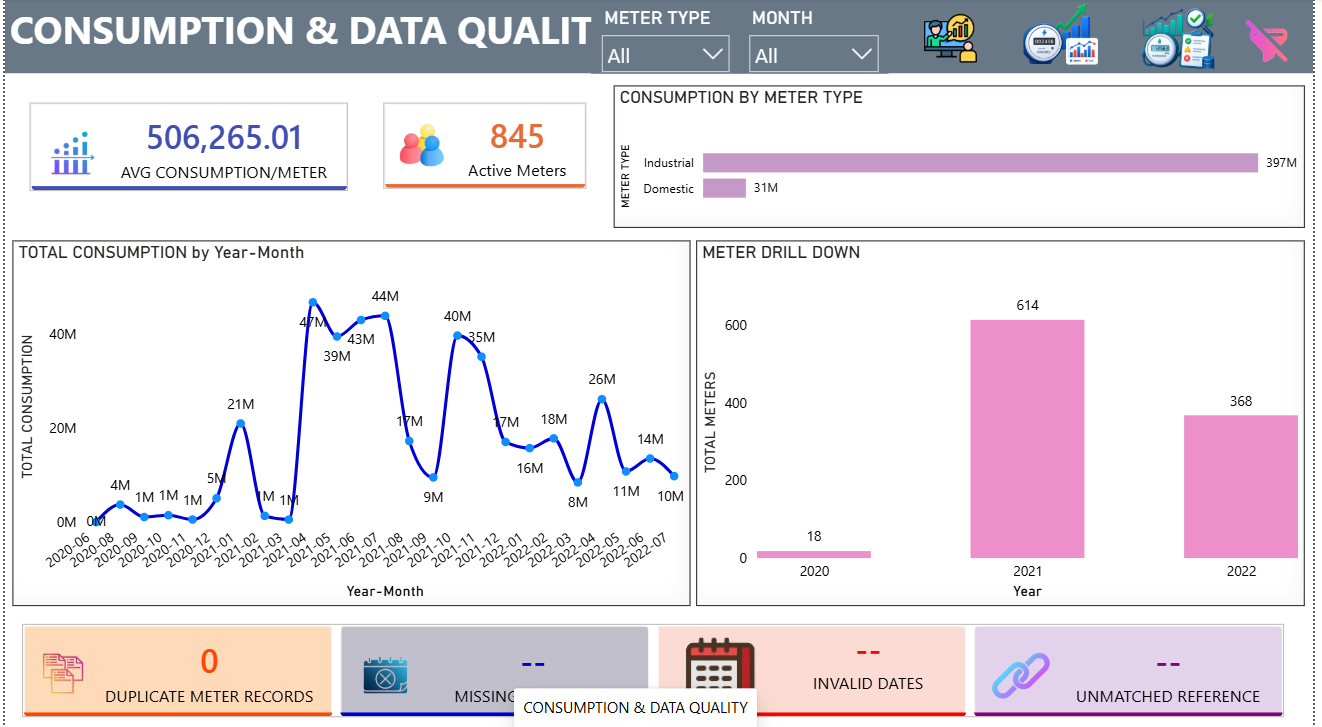

Layout of this report page (visuals, bound fields, positions):
{"tool":"powerbi","page":{"name":"CONSUMPTION & DATA QUALITY","canvas":[1280,720],"ordinal":2},"visuals":[{"type":"textbox","box":[0,0,1280,73.3],"z":0},{"type":"slicer","fields":{"Values":["Calendar.Year-Month"]},"box":[718.3,3.3,146.7,70],"z":0,"group":"g1"},{"type":"slicer","fields":{"Values":["Meter Types.Meter_Type_Description"]},"box":[573.3,3.3,145,70],"z":1000,"group":"g1"},{"type":"image","box":[874.3,5.7,98.6,62.9],"z":1000},{"type":"image","box":[984.3,4.3,97.1,61.4],"z":2000},{"type":"clusteredBarChart","title":"CONSUMPTION BY METER TYPE ","fields":{"Category":["Meter Types.Meter_Type_Description"],"Y":["Meters.TOTAL CONSUMPTION"]},"box":[595.1,85.4,675.8,139.3],"z":2000,"group":"g1"},{"type":"image","box":[1100,7.1,94.3,61.4],"z":3000},{"type":"lineChart","fields":{"Category":["Calendar.Year-Month"],"Y":["Meters.TOTAL CONSUMPTION"]},"box":[7.9,237.4,663.1,357.7],"z":3000,"group":"g1"},{"type":"group","id":"g1","title":"CONSUMPTION &DATA QUALITY","box":[0,3.3,1270.8,716.7],"z":4000},{"type":"cardVisual","fields":{"Data":["Meters.AVG CONSUMPTION PER METER"]},"box":[7.9,85.4,345,120.3],"z":4000,"group":"g1"},{"type":"image","box":[1202.9,11.4,68.6,55.7],"z":5000},{"type":"cardVisual","fields":{"Data":["Meters.ACTIVE METERS"]},"box":[352.9,85.4,232.6,118.7],"z":5000,"group":"g1"},{"type":"clusteredColumnChart","title":"METER DRILL DOWN","fields":{"Category":["Calendar.Year","Calendar.Year-Month","Meters.Loss_Reason","Meter Types.Meter_Type_Description"],"Y":["Meters.TOTAL METERS"]},"box":[675.8,237.4,595.1,357.7],"z":6000,"group":"g1"},{"type":"cardVisual","fields":{"Data":["Meters.DUPLICATE METER RECORDS","Meters.MISSING GAIN DATES","Meters.INVALID DATES","Meters.UNMATCHED REFERENCE"]},"box":[0,595,1270.8,125],"z":7000,"group":"g1"}]}

Visuals, with their boxes in screenshot pixels (x1, y1, x2, y2), scaled from the page's 1280x720 canvas onto the 1322x727 screenshot:
textbox: [0,0,1321,74]
slicer - Calendar.Year-Month: [742,3,893,74]
slicer - Meter Types.Meter_Type_Description: [592,3,742,74]
image: [903,6,1005,69]
image: [1017,4,1117,66]
"CONSUMPTION BY METER TYPE " clusteredBarChart: [615,86,1313,227]
image: [1136,7,1233,69]
lineChart - Calendar.Year-Month x Meters.TOTAL CONSUMPTION: [8,240,693,601]
"CONSUMPTION &DATA QUALITY" group: [0,3,1312,726]
cardVisual - Meters.AVG CONSUMPTION PER METER: [8,86,364,208]
image: [1242,12,1313,68]
cardVisual - Meters.ACTIVE METERS: [364,86,605,206]
"METER DRILL DOWN" clusteredColumnChart: [698,240,1313,601]
cardVisual - Meters.DUPLICATE METER RECORDS x Meters.MISSING GAIN DATES: [0,601,1312,726]
